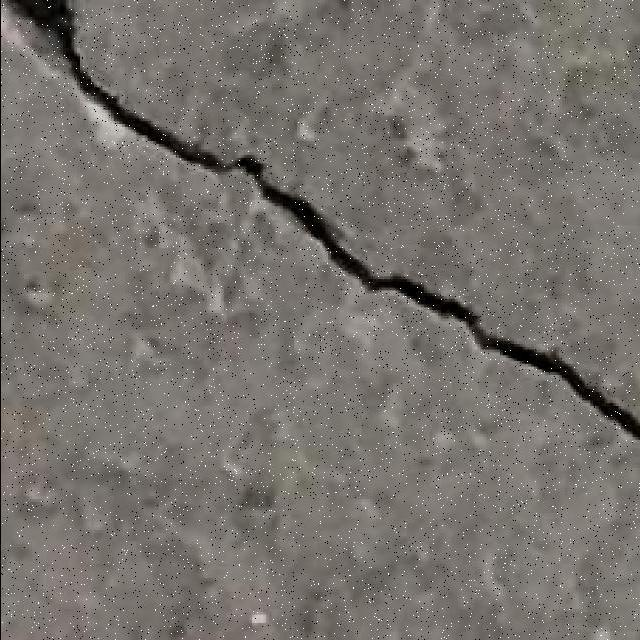Crack: (10, 0, 638, 441)
